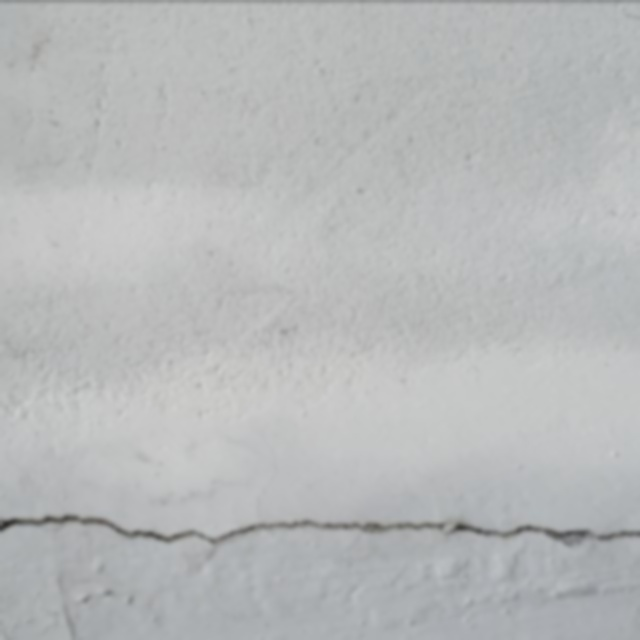SurfaceCrack: (0, 463, 639, 598)
